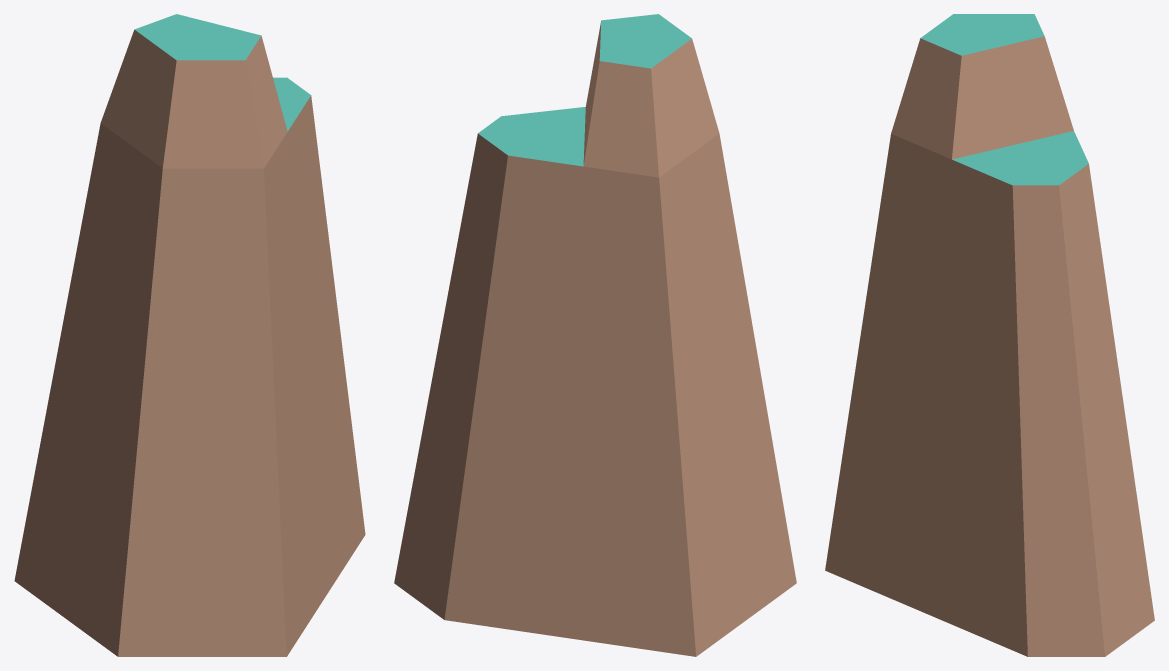
Rendered from rock_tallC.glb.
The picture shows the model from 3 angles, left to right: view 1: azimuth 30°, elevation 25°; view 2: azimuth 150°, elevation 25°; view 3: azimuth 270°, elevation 25°; orthographic projection. The views are drawn at different scales.
Visible parts, largest first — view 1: rock_tallC; view 2: rock_tallC; view 3: rock_tallC.
Boxes of the visible parts, x1=… form: rock_tallC: x1=14, y1=14, x2=365, y2=656; rock_tallC: x1=394, y1=14, x2=796, y2=656; rock_tallC: x1=825, y1=14, x2=1154, y2=656.
Size of the model in its own units: 0.4562 by 0.7829 by 0.4365.
